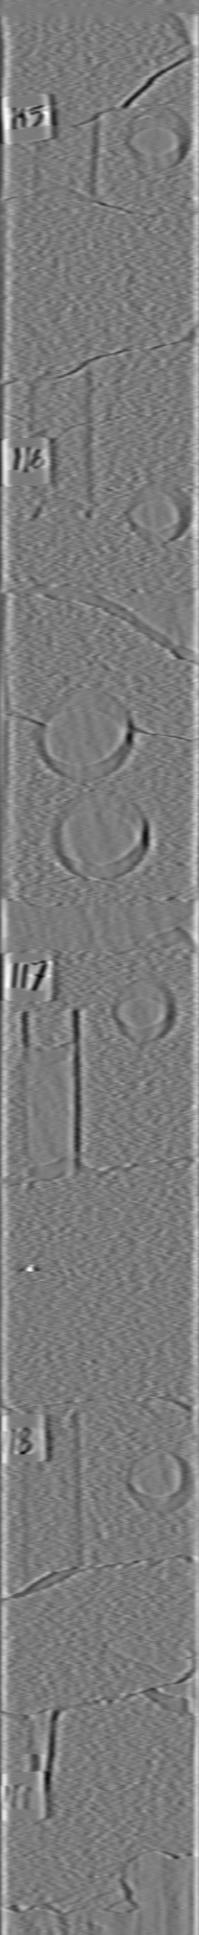hplug: (114, 1438, 199, 1515), (108, 1840, 199, 1908), (106, 972, 184, 1051), (116, 474, 199, 548), (117, 109, 197, 172)
scal: (46, 786, 164, 889), (30, 680, 138, 786)
vplug: (10, 1002, 96, 1183), (12, 1414, 98, 1598), (20, 354, 104, 522), (28, 94, 104, 210)
